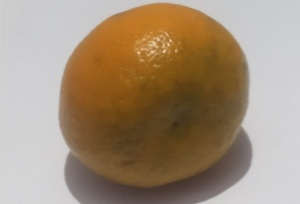BAD: (54, 2, 252, 191)
